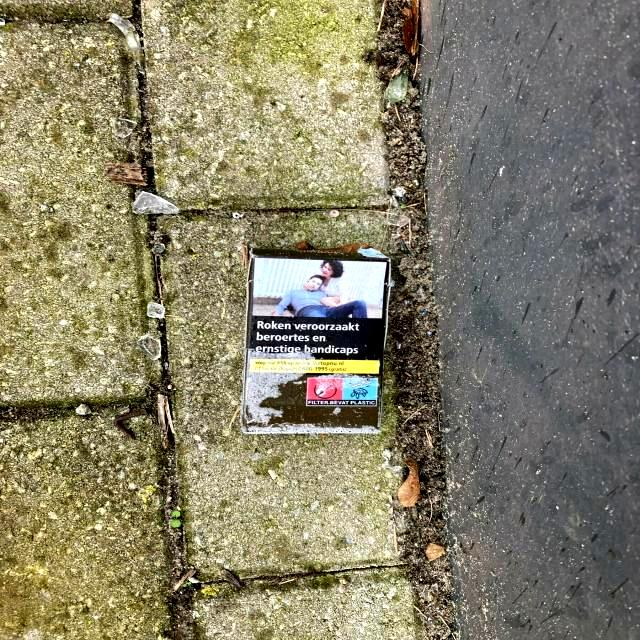Paper: (236, 240, 394, 438)
